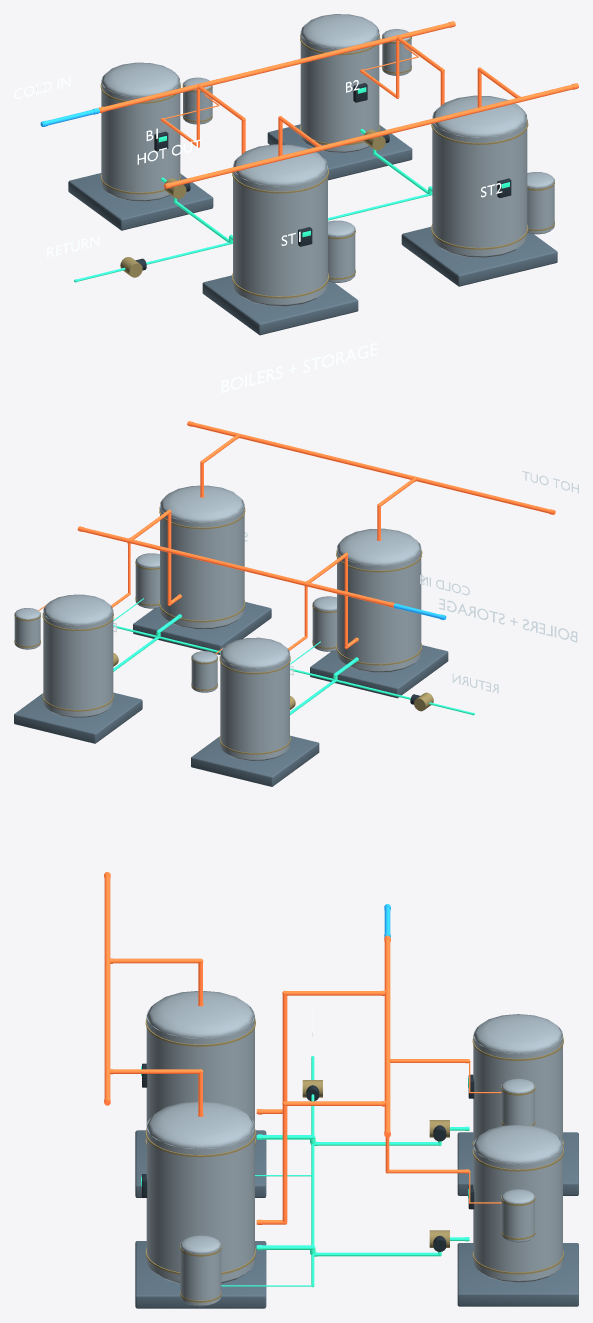
The model's file is plant.glb.
3 renders of one model, top to bottom at view 1: azimuth 30°, elevation 25°; view 2: azimuth 150°, elevation 25°; view 3: azimuth 270°, elevation 25°, orthographic. The views are drawn at different scales.
Visible parts, largest first — view 1: ST2, ST1, B1, B2, tank-pad-2, tank-pad-1, boiler-pad-1, boiler-pad-2, hot-header, charge-header, ET4, ET3 (+4 smaller); view 2: ST2, ST1, B2, B1, boiler-pad-1, boiler-pad-2, tank-pad-1, tank-pad-2, hot-header, charge-header, ET3, ET4 (+6 smaller); view 3: ST2, B2, ST1, B1, boiler-pad-2, tank-pad-2, ET4, boiler-pad-1, ET2, hot-header, ET1, tank-pad-1 (+7 smaller).
Boxes of the visible parts, <box> form: ST2: <box>431,95,528,257</box>; ST1: <box>232,144,328,306</box>; B1: <box>100,62,180,201</box>; B2: <box>300,14,380,152</box>; tank-pad-2: <box>401,227,557,286</box>; tank-pad-1: <box>202,275,358,335</box>; boiler-pad-1: <box>68,173,213,230</box>; boiler-pad-2: <box>267,124,412,180</box>; hot-header: <box>164,83,578,188</box>; charge-header: <box>98,21,455,112</box>; ET4: <box>527,172,554,234</box>; ET3: <box>328,220,355,282</box>; ST2: <box>159,485,245,629</box>; ST1: <box>336,528,422,672</box>; B2: <box>42,594,113,717</box>; B1: <box>219,637,290,761</box>; boiler-pad-1: <box>191,735,319,786</box>; boiler-pad-2: <box>14,692,142,743</box>; tank-pad-1: <box>310,645,448,698</box>; tank-pad-2: <box>133,602,271,654</box>; hot-header: <box>187,421,555,514</box>; charge-header: <box>77,526,394,607</box>; ET3: <box>312,596,336,651</box>; ET4: <box>135,553,159,608</box>; ST2: <box>141,1101,255,1283</box>; B2: <box>468,1124,563,1282</box>; ST1: <box>141,991,255,1146</box>; B1: <box>468,1014,563,1146</box>; boiler-pad-2: <box>457,1243,578,1306</box>; tank-pad-2: <box>135,1241,266,1308</box>; ET4: <box>180,1235,221,1306</box>; boiler-pad-1: <box>457,1132,578,1195</box>; ET2: <box>501,1189,535,1242</box>; hot-header: <box>104,872,110,1105</box>; ET1: <box>501,1078,535,1125</box>; tank-pad-1: <box>135,1130,266,1197</box>.
Size of the model in its own units: 8.15 by 3.81 by 7.68.
